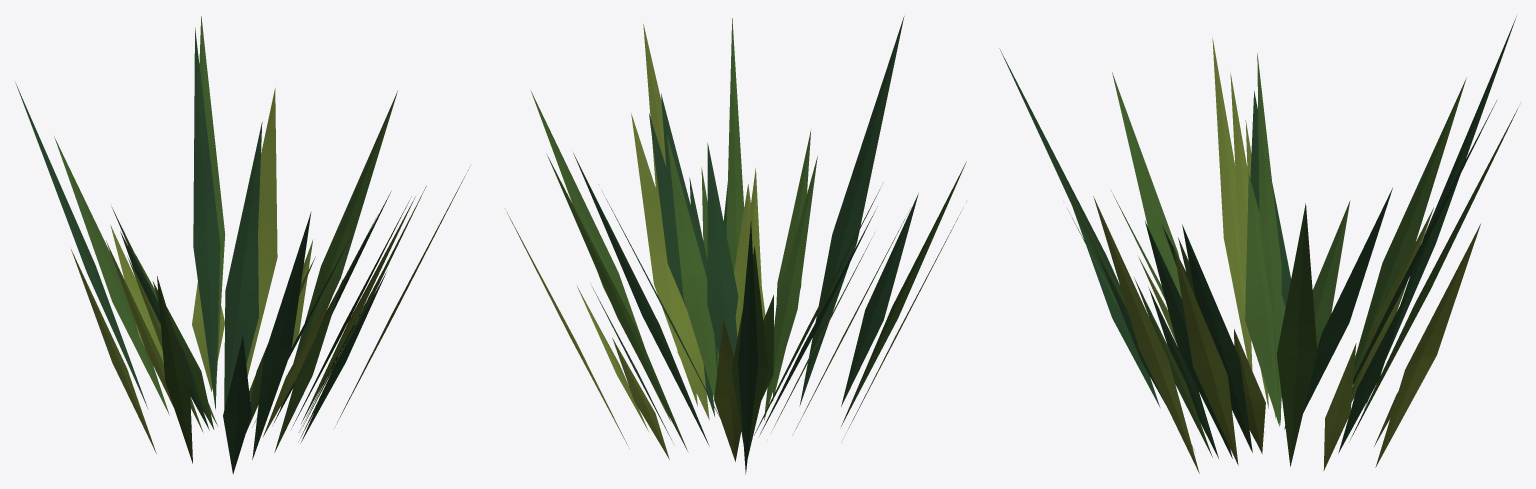
Rendered from b13_grass_large.fbx.
3 renders of one model, left to right at view 1: azimuth 30°, elevation 25°; view 2: azimuth 150°, elevation 25°; view 3: azimuth 270°, elevation 25°, orthographic. The views are drawn at different scales.
Parts seen in each view (by area): view 1: b13_grass_large; view 2: b13_grass_large; view 3: b13_grass_large.
Boxes of the visible parts, x1,y1,x2,y2 form: b13_grass_large: (15, 16, 470, 474); b13_grass_large: (507, 16, 966, 474); b13_grass_large: (999, 16, 1517, 473).
Size of the model in its own units: 7508 by 7830 by 6233.
